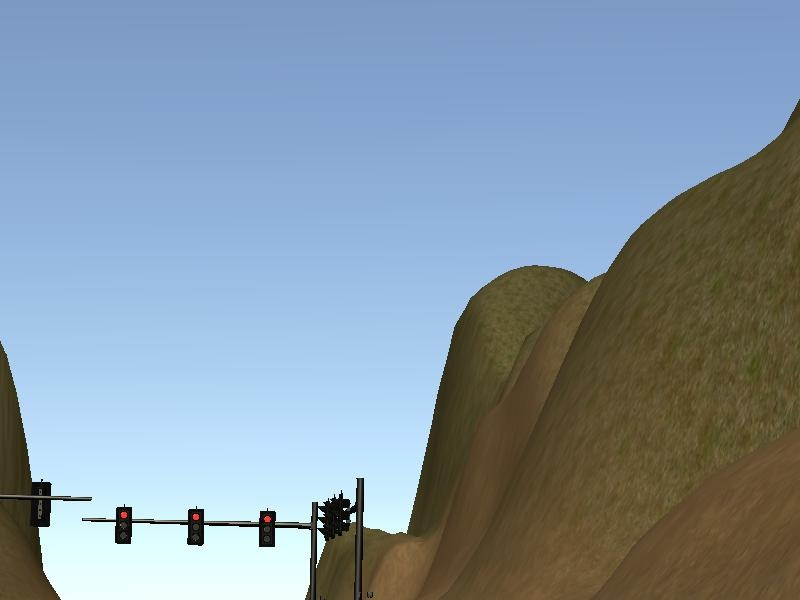red: (256, 509, 276, 548), (114, 505, 133, 543), (189, 506, 205, 548)
